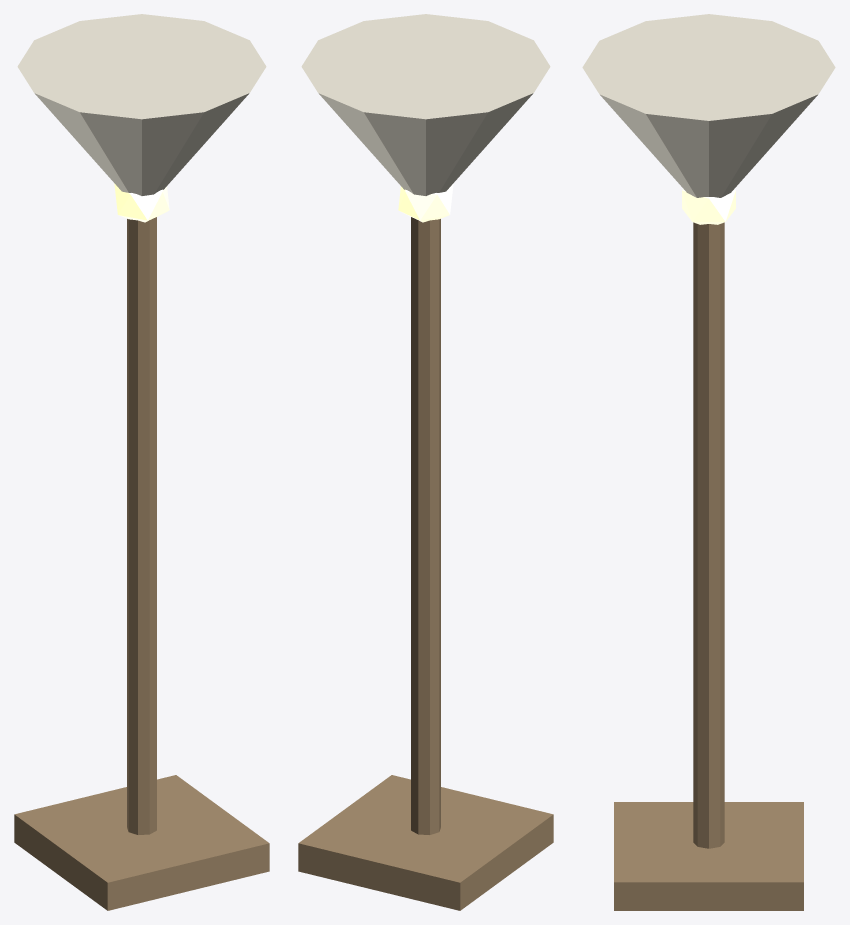
The model's file is 18-Casas_decor_lampara_pie.glb.
The picture shows the model from 3 angles, left to right: view 1: azimuth 30°, elevation 25°; view 2: azimuth 150°, elevation 25°; view 3: azimuth 270°, elevation 25°; orthographic projection.
Parts seen in each view (by area): view 1: SM_LampPie_Pantalla, SM_LampPie_Base, SM_LampPie_Poste, SM_LampPie_Bombilla; view 2: SM_LampPie_Pantalla, SM_LampPie_Base, SM_LampPie_Poste, SM_LampPie_Bombilla; view 3: SM_LampPie_Pantalla, SM_LampPie_Poste, SM_LampPie_Base, SM_LampPie_Bombilla.
Boxes of the visible parts, x1,y1,x2,y2 form: SM_LampPie_Pantalla: (17, 14, 266, 195); SM_LampPie_Base: (14, 775, 269, 910); SM_LampPie_Poste: (127, 217, 156, 834); SM_LampPie_Bombilla: (114, 183, 169, 222); SM_LampPie_Pantalla: (301, 14, 550, 195); SM_LampPie_Base: (298, 775, 553, 910); SM_LampPie_Poste: (411, 217, 440, 834); SM_LampPie_Bombilla: (398, 183, 453, 222); SM_LampPie_Pantalla: (582, 14, 835, 197); SM_LampPie_Poste: (693, 222, 724, 848); SM_LampPie_Base: (614, 802, 803, 910); SM_LampPie_Bombilla: (682, 189, 735, 224).
Bounding box in the file's own units: 0.4 × 1.4 × 0.4.
